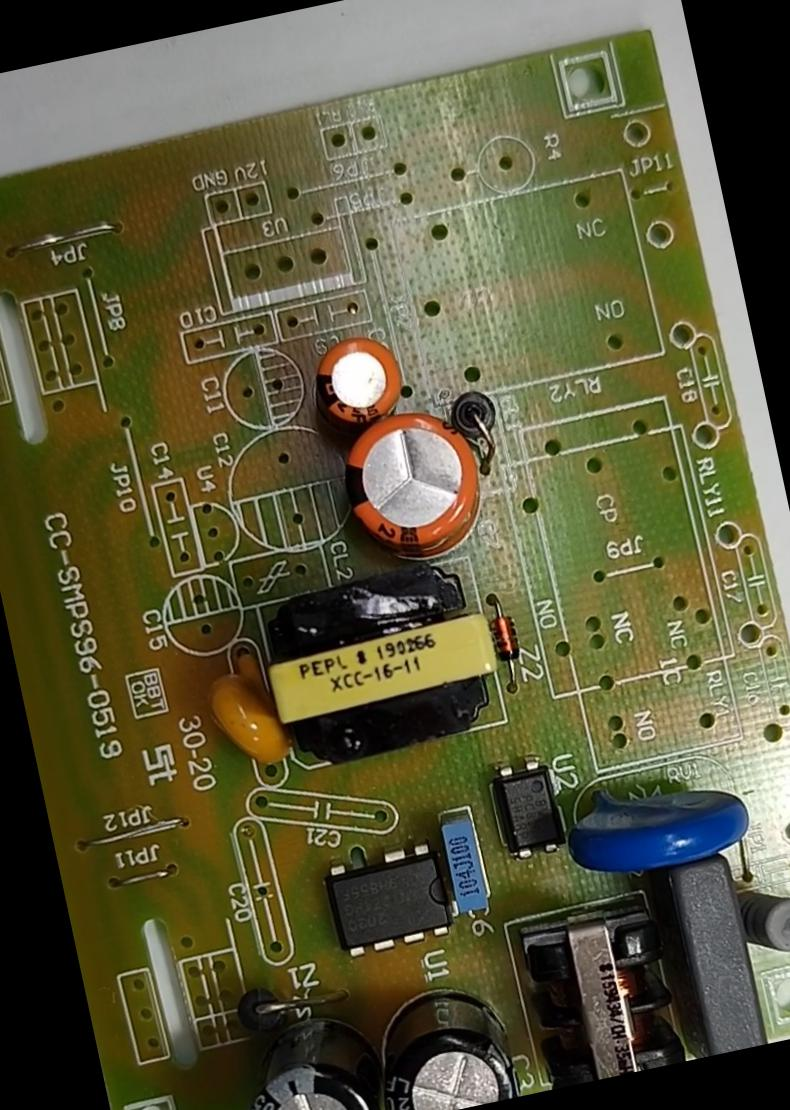Cap1: (326, 391, 502, 573)
Cap2: (290, 319, 426, 447)
Cap3: (342, 959, 531, 1109)
Cap4: (213, 977, 403, 1109)
MOSFET: (304, 822, 464, 972)
Mov: (556, 754, 767, 888)
Resistor: (724, 871, 789, 969)
Transformer: (250, 544, 512, 777), (501, 885, 699, 1091)
